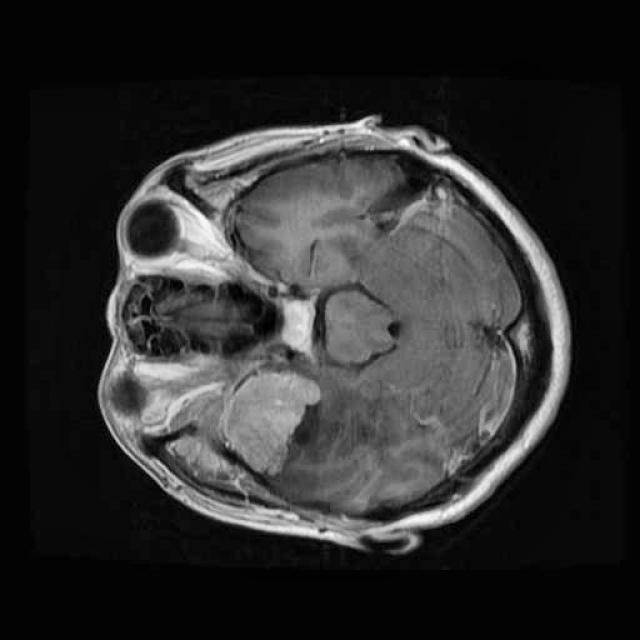Tumor: (154, 359, 326, 498)
